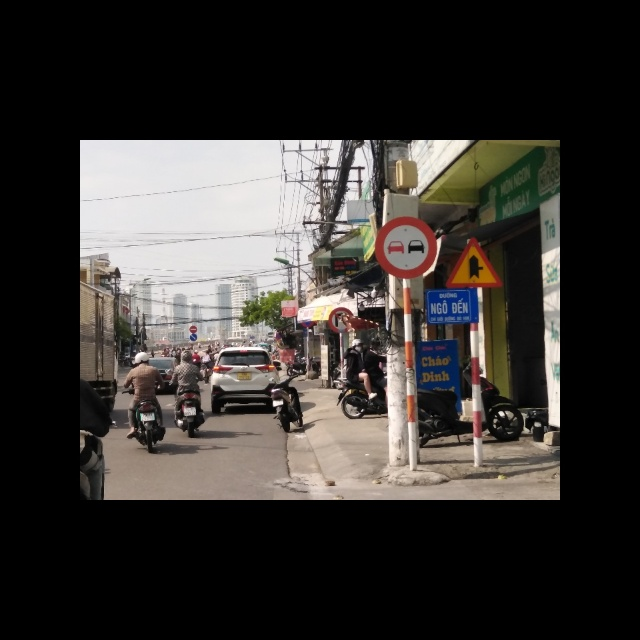Cấm vượt: (374, 216, 434, 278)
Giao nhau với đường không ưu tiên: (448, 235, 505, 288)
